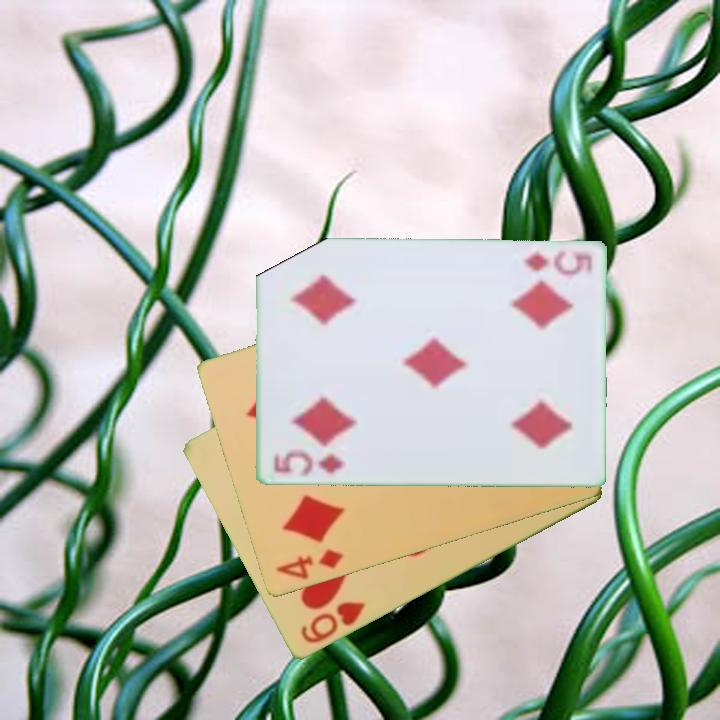4d: (272, 545, 346, 583)
5d: (270, 448, 348, 479), (520, 247, 594, 278)
6h: (296, 598, 368, 647)
